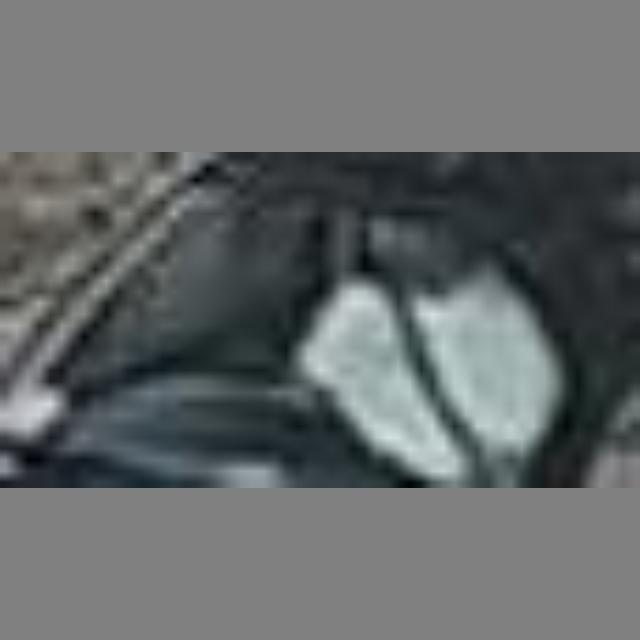pakai: (303, 219, 528, 466)
